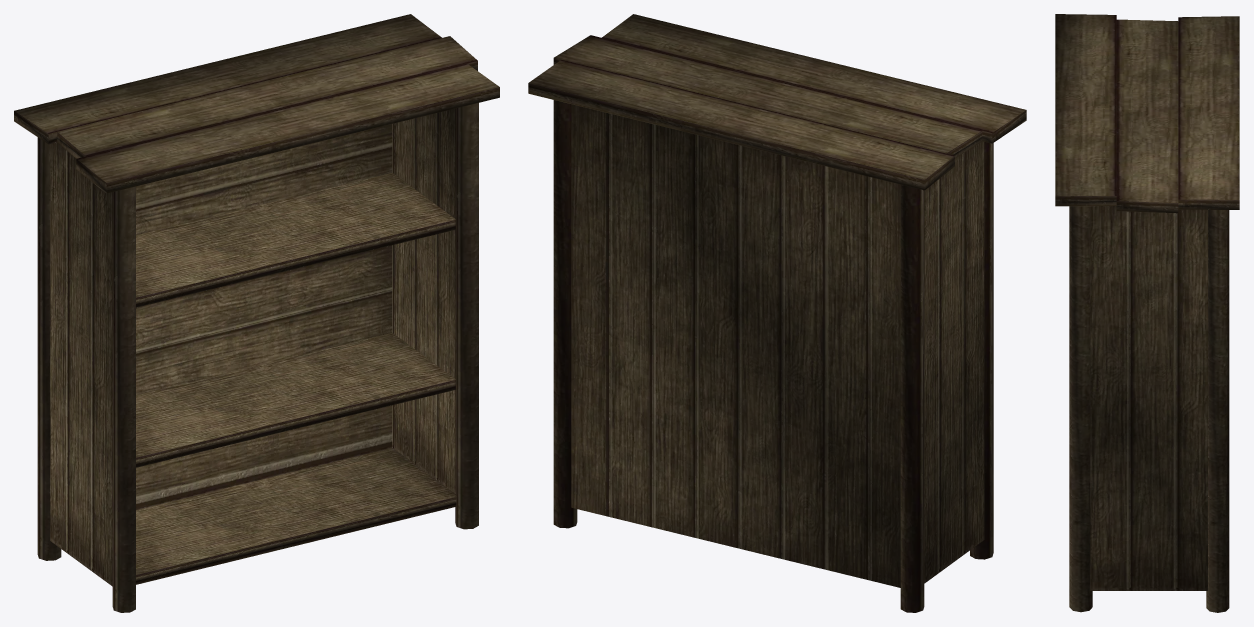
File: GS_BOOKSHELF_OPEN_BROWN_01_KOZA.glb
3 renders of one model, left to right at view 1: azimuth 30°, elevation 25°; view 2: azimuth 150°, elevation 25°; view 3: azimuth 270°, elevation 25°, orthographic. The views are drawn at different scales.
Visible parts, largest first — view 1: Mesh; view 2: Mesh; view 3: Mesh.
Part boxes in pixels (x1=…): Mesh: x1=14, y1=14, x2=499, y2=612; Mesh: x1=528, y1=14, x2=1026, y2=612; Mesh: x1=1055, y1=14, x2=1239, y2=612.
Size of the model in its own units: 1.4 by 1.45 by 0.5776.
Materials: 3 (2 with a texture image).
